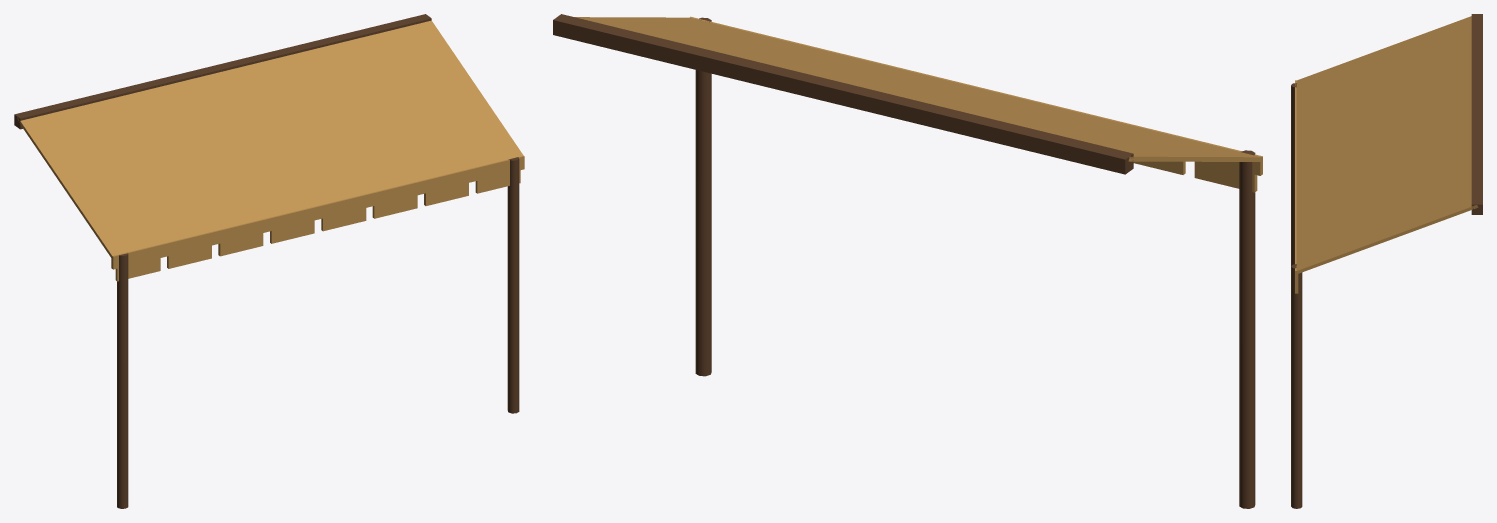
The model's file is rome_awning.glb.
3 renders of one model, left to right at view 1: azimuth 30°, elevation 25°; view 2: azimuth 150°, elevation 25°; view 3: azimuth 270°, elevation 25°, orthographic. The views are drawn at different scales.
Parts seen in each view (by area): view 1: rome_awning; view 2: rome_awning; view 3: rome_awning.
Boxes of the visible parts, left/top/right/bottom form: rome_awning: left=14, top=14, right=524, bottom=508; rome_awning: left=553, top=14, right=1262, bottom=508; rome_awning: left=1291, top=14, right=1482, bottom=508.
Size of the model in its own units: 4 by 3 by 1.7.
